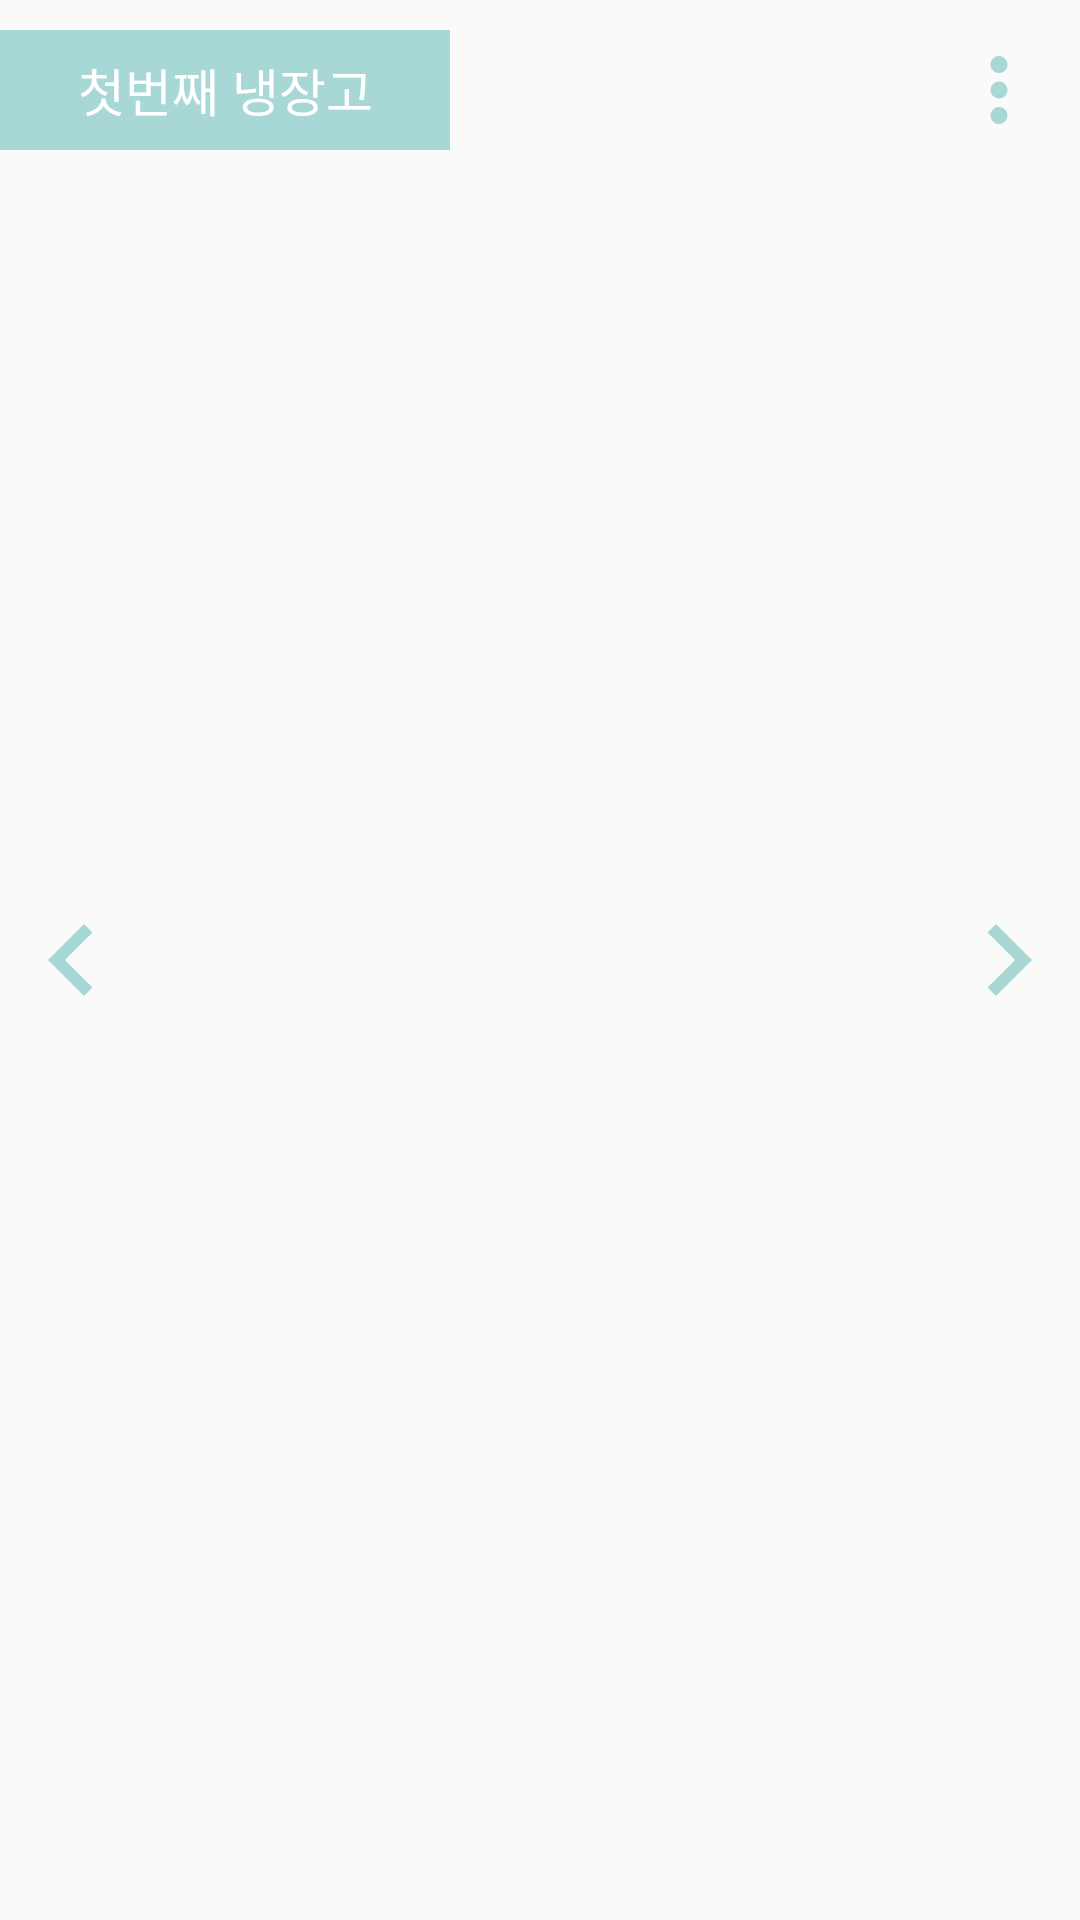

Locate icon controls on the screen. Image size 1080×1920, boxes as Rect(x1, y1, x2, y2).
more vert myfridge detail: Rect(990, 56, 1008, 124)
navigate before myfridge detail: Rect(48, 924, 92, 996)
navigate next myfridge detail: Rect(988, 924, 1032, 996)
